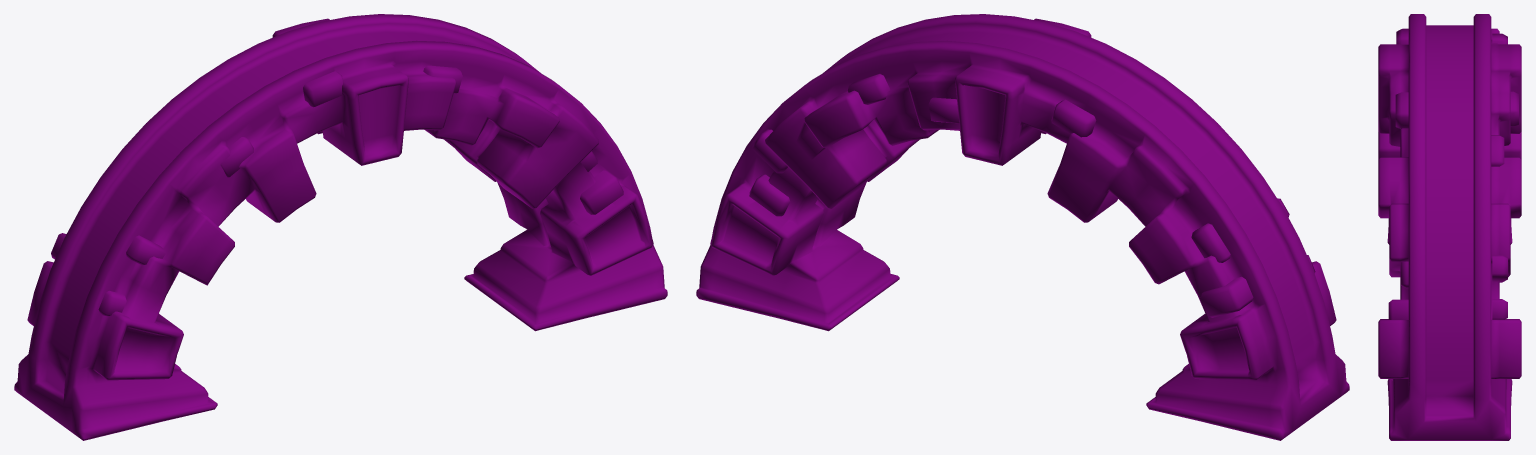
The model's file is W1_Arche_2.fbx.
3 renders of one model, left to right at view 1: azimuth 30°, elevation 25°; view 2: azimuth 150°, elevation 25°; view 3: azimuth 270°, elevation 25°, orthographic. The views are drawn at different scales.
Parts seen in each view (by area): view 1: W1_Arche_2; view 2: W1_Arche_2; view 3: W1_Arche_2.
Boxes of the visible parts, box(x1,y1,x2,y2) form: W1_Arche_2: box(14, 14, 667, 440); W1_Arche_2: box(696, 14, 1349, 440); W1_Arche_2: box(1378, 14, 1521, 440).
Size of the model in its own units: 799 by 400 by 190.
